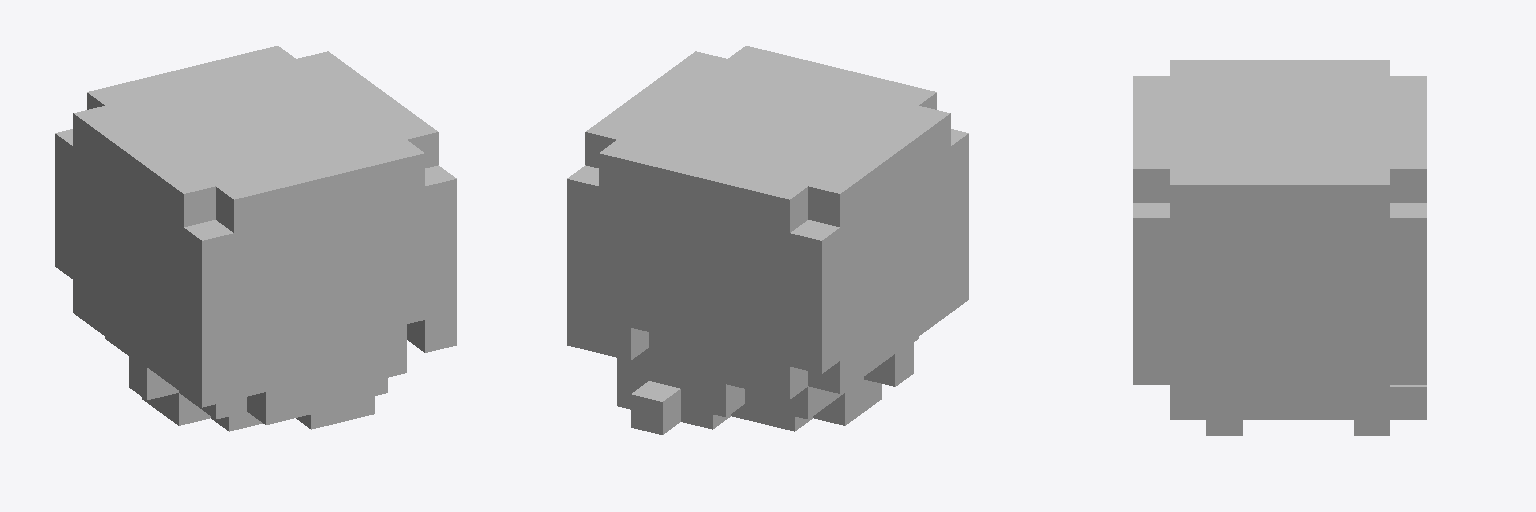
Rendered from ground4.obj.
3 renders of one model, left to right at view 1: azimuth 30°, elevation 25°; view 2: azimuth 150°, elevation 25°; view 3: azimuth 270°, elevation 25°, orthographic.
Parts seen in each view (by area): view 1: ObjObject.003; view 2: ObjObject.003; view 3: ObjObject.003.
Boxes of the visible parts, x1,y1,x2,y2 form: ObjObject.003: [55, 46, 456, 431]; ObjObject.003: [567, 46, 968, 434]; ObjObject.003: [1133, 60, 1426, 435].
Size of the model in its own units: 0.8 by 0.8 by 0.8.